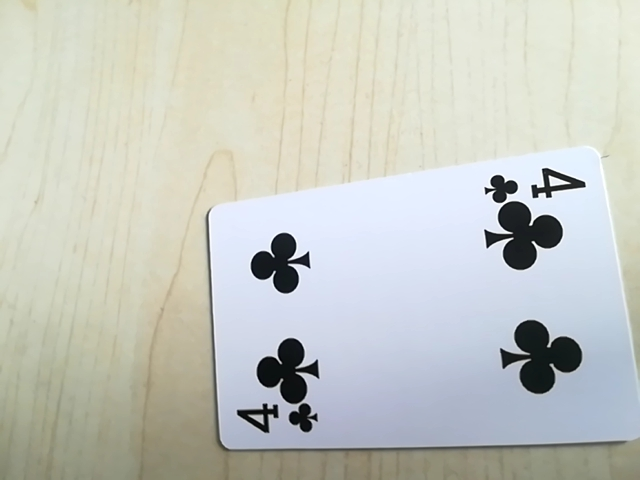mh 4: (482, 161, 589, 205), (231, 399, 321, 441)
